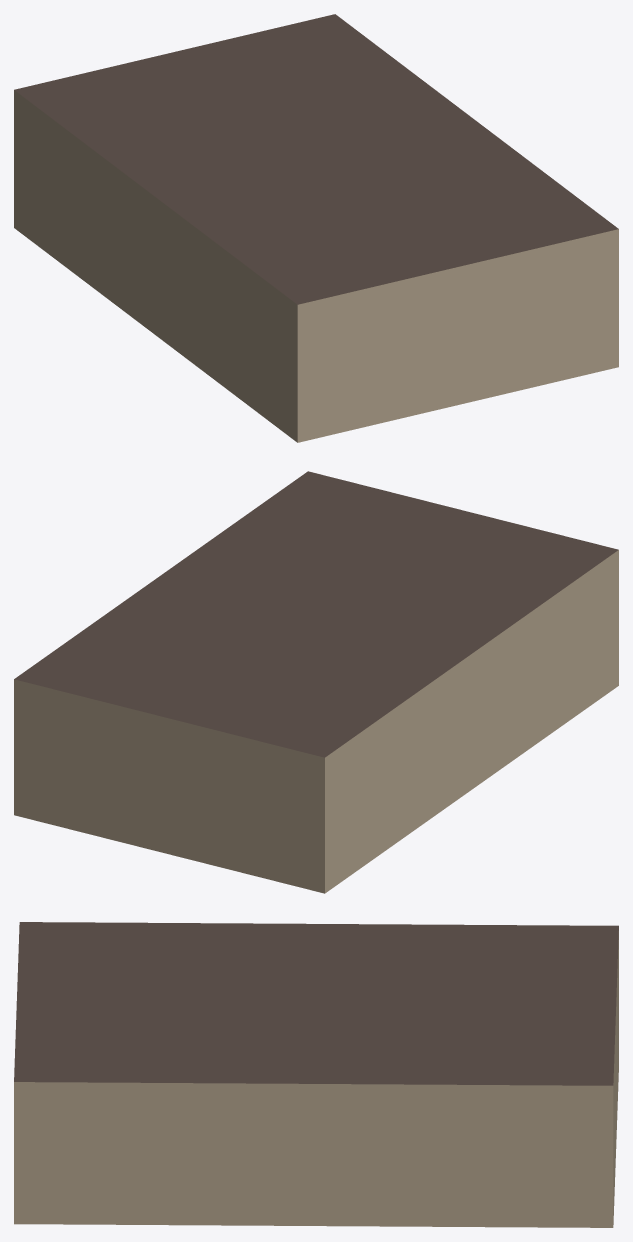
The picture shows the model from 3 angles, top to bottom: view 1: azimuth 30°, elevation 25°; view 2: azimuth 150°, elevation 25°; view 3: azimuth 270°, elevation 25°; orthographic projection. The views are drawn at different scales.
Visible parts, largest first — view 1: HP-w369237934; view 2: HP-w369237934; view 3: HP-w369237934.
Part boxes in pixels (left/top/right/bottom): HP-w369237934: left=14, top=14, right=618, bottom=442; HP-w369237934: left=14, top=471, right=618, bottom=893; HP-w369237934: left=14, top=922, right=618, bottom=1227.
Size of the model in its own units: 22.24 by 9 by 34.71.
